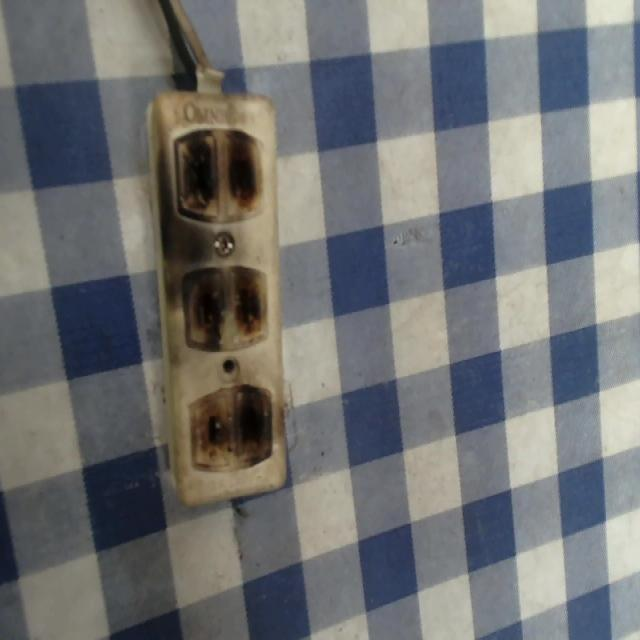-: (184, 380, 275, 471), (179, 263, 271, 353), (175, 123, 263, 217)
